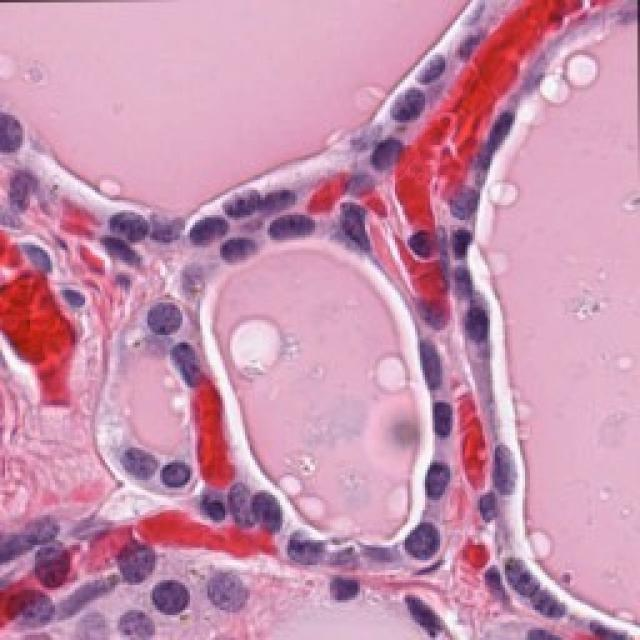normal: (467, 424, 538, 510), (121, 445, 205, 510), (379, 343, 460, 409), (370, 66, 451, 132), (197, 481, 276, 547), (442, 287, 511, 359), (383, 520, 457, 587), (117, 522, 185, 590), (207, 221, 269, 291), (254, 195, 322, 257), (353, 129, 416, 191), (141, 283, 188, 366), (398, 447, 460, 504), (106, 183, 151, 255)
